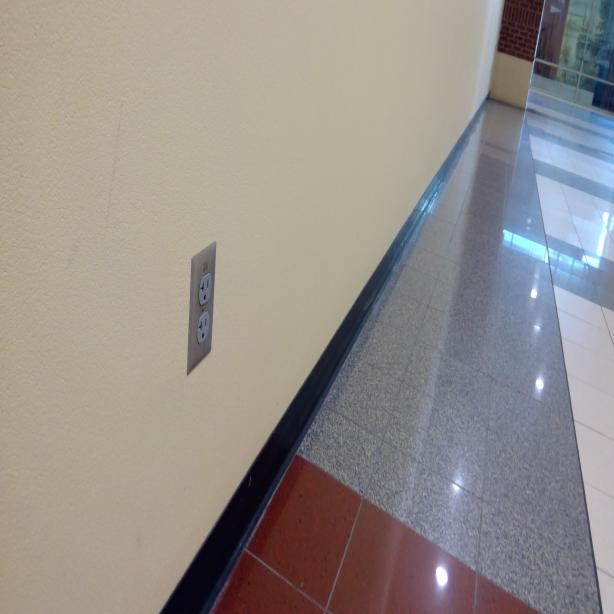typeb: (195, 315, 211, 341), (198, 274, 212, 302)
